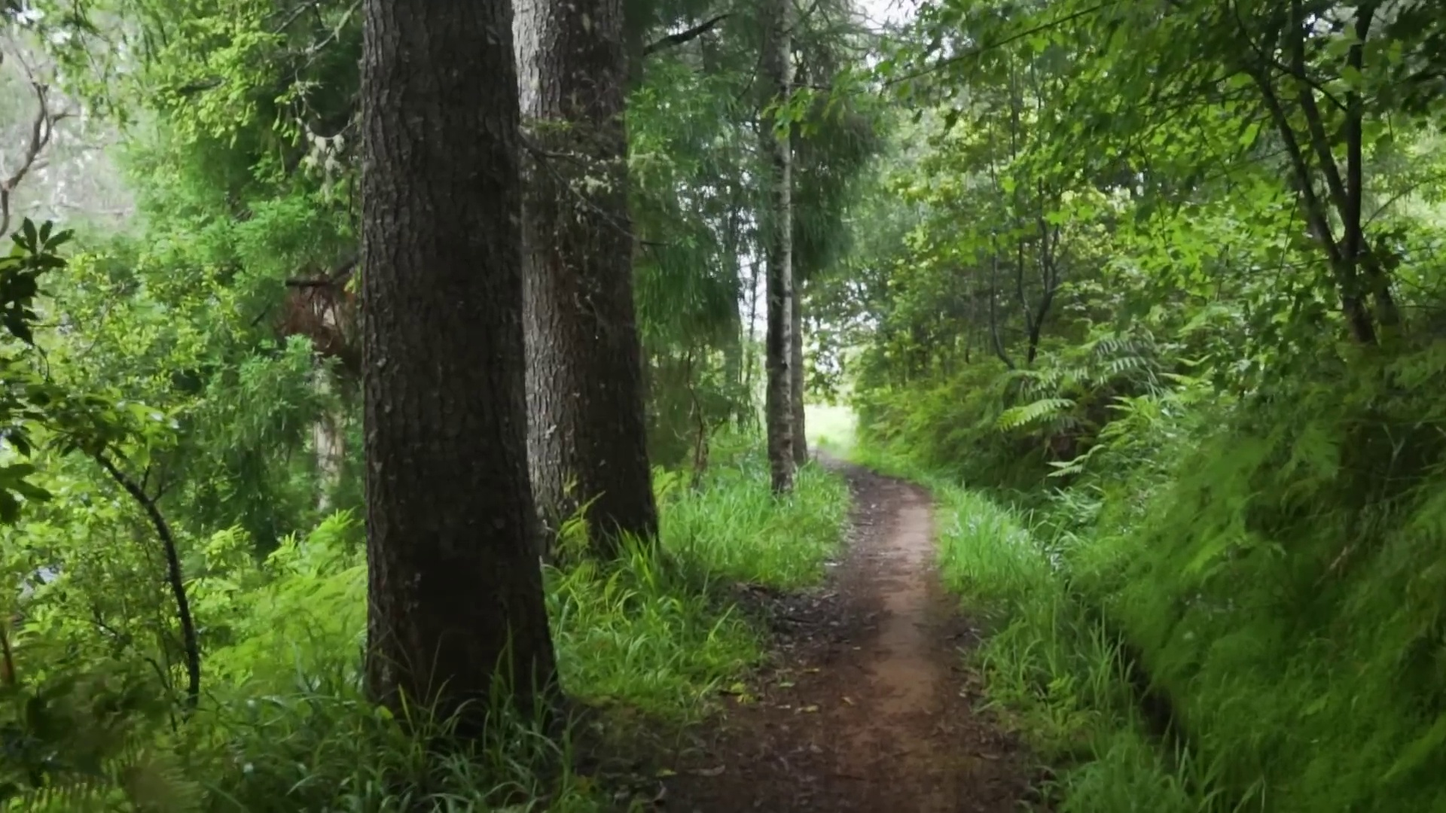tree: (362, 0, 554, 713), (514, 0, 657, 554), (759, 0, 795, 492)
